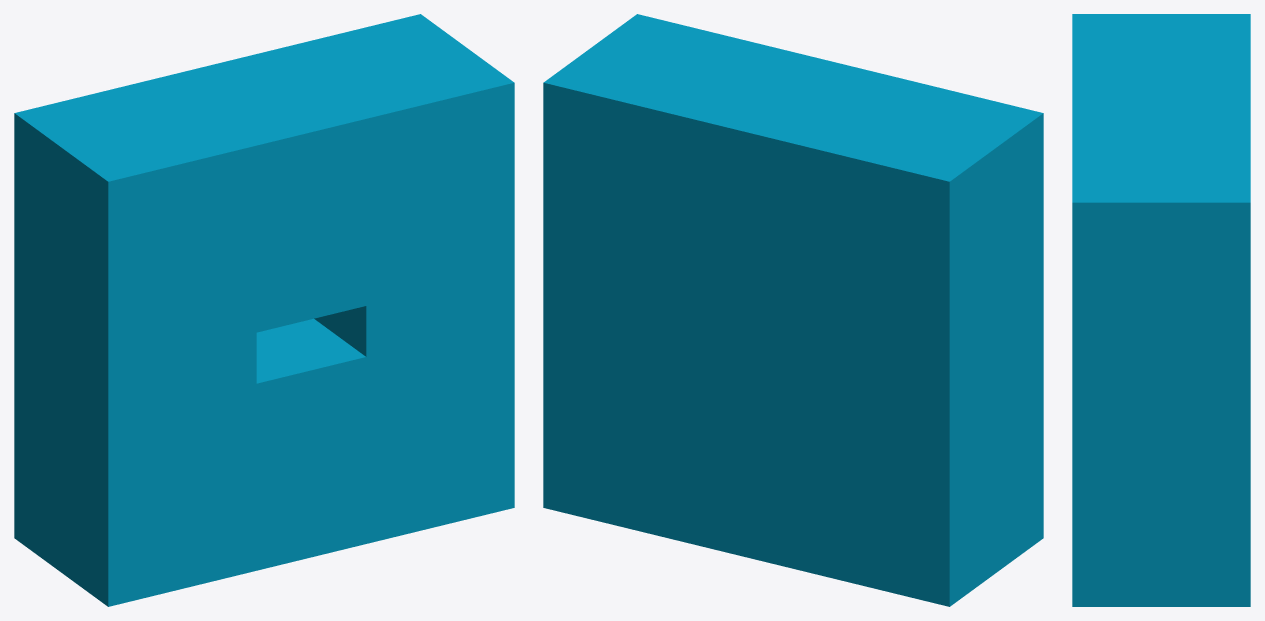
Rendered from USB_slot_start.obj.
The picture shows the model from 3 angles, left to right: view 1: azimuth 30°, elevation 25°; view 2: azimuth 150°, elevation 25°; view 3: azimuth 270°, elevation 25°; orthographic projection. The views are drawn at different scales.
Parts seen in each view (by area): view 1: USB_slot_start; view 2: USB_slot_start; view 3: USB_slot_start.
Part boxes in pixels (x1=…): USB_slot_start: x1=14, y1=14, x2=514, y2=606; USB_slot_start: x1=543, y1=14, x2=1043, y2=606; USB_slot_start: x1=1072, y1=14, x2=1250, y2=606.
Size of the model in its own units: 0.05 by 0.05 by 0.02.
